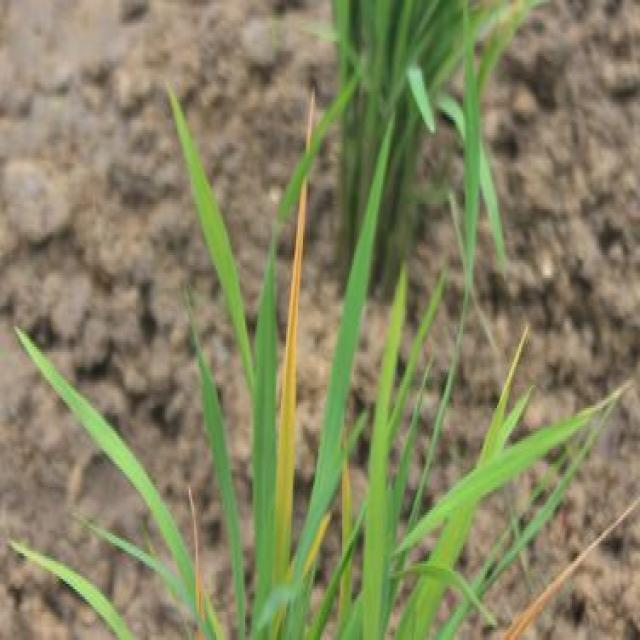Tungro: (270, 62, 322, 640)
